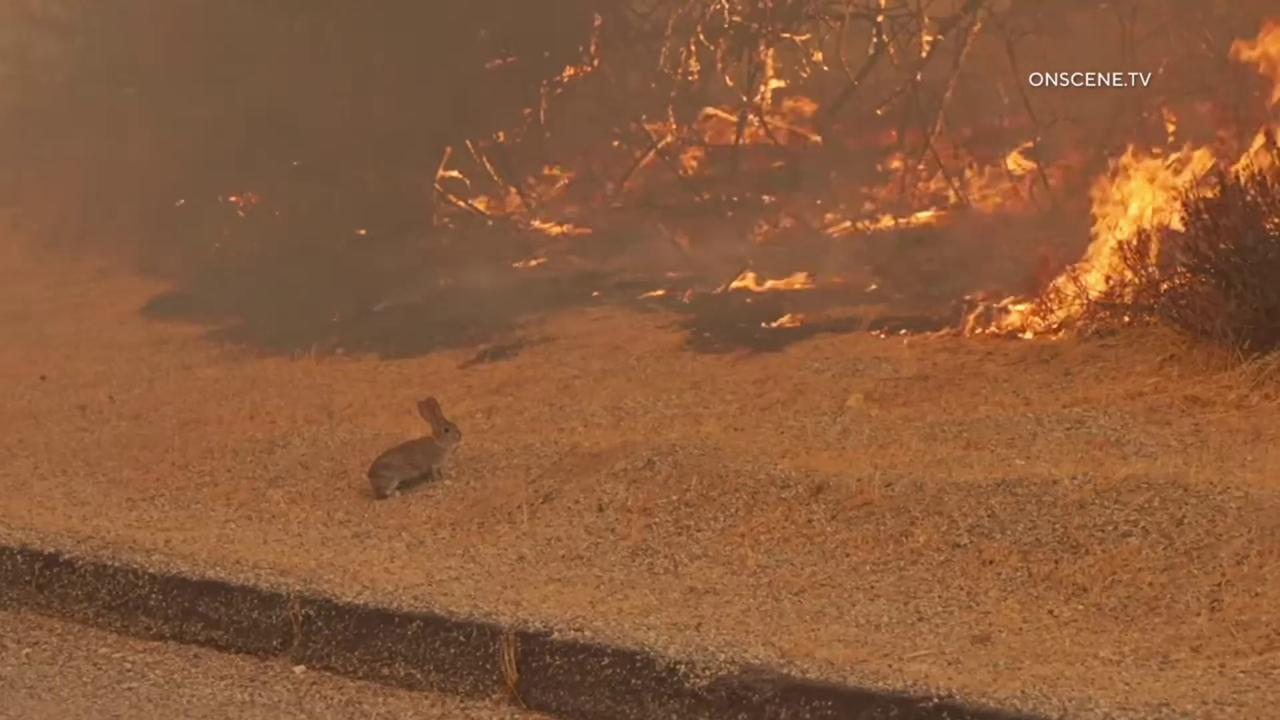fire: (941, 15, 1280, 344), (621, 0, 833, 191), (814, 135, 1046, 241), (424, 132, 598, 244), (538, 11, 607, 124), (712, 267, 815, 296), (868, 0, 897, 61), (915, 8, 940, 67), (752, 309, 810, 330), (229, 188, 262, 215), (483, 55, 524, 72), (508, 254, 551, 269), (637, 285, 667, 300), (867, 281, 881, 298), (875, 103, 884, 114)
smoke: (0, 0, 1280, 333)
